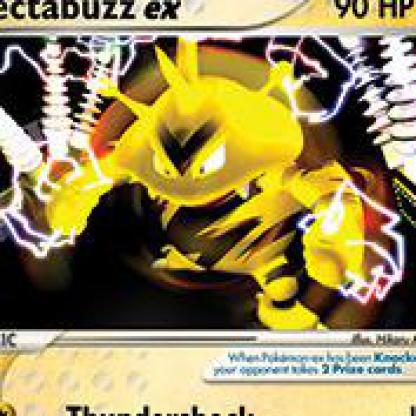Electabuzz: (41, 11, 415, 415)
